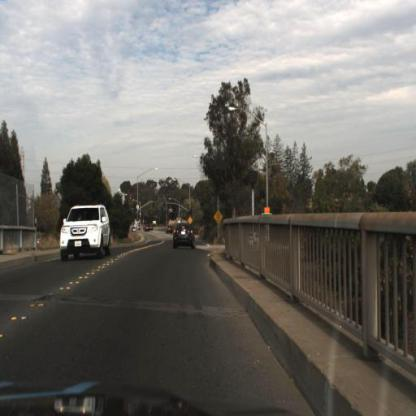car: (55, 198, 117, 266), (58, 202, 113, 257), (173, 221, 198, 254)
